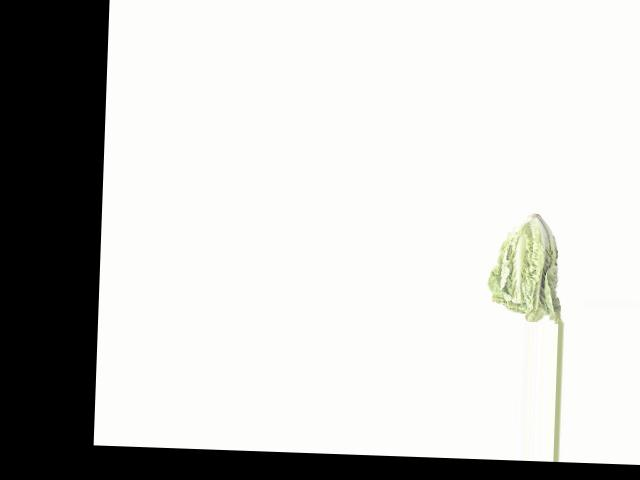lettuce: (482, 214, 564, 323)
